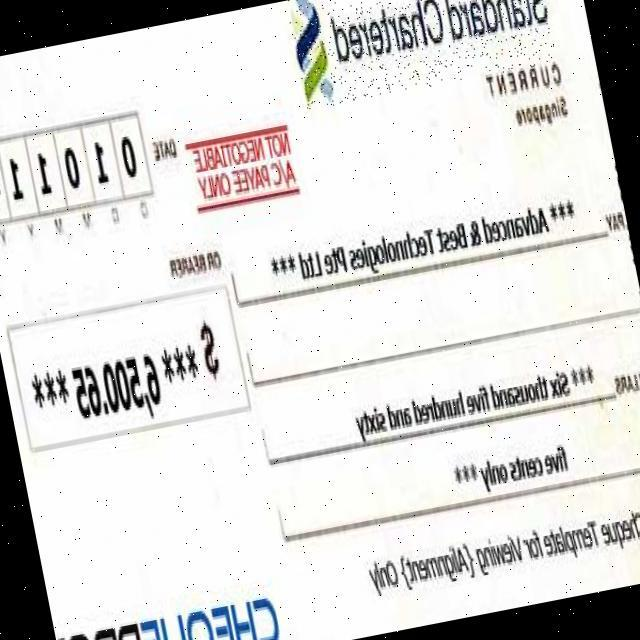Standard Chartered: (285, 0, 558, 111)
